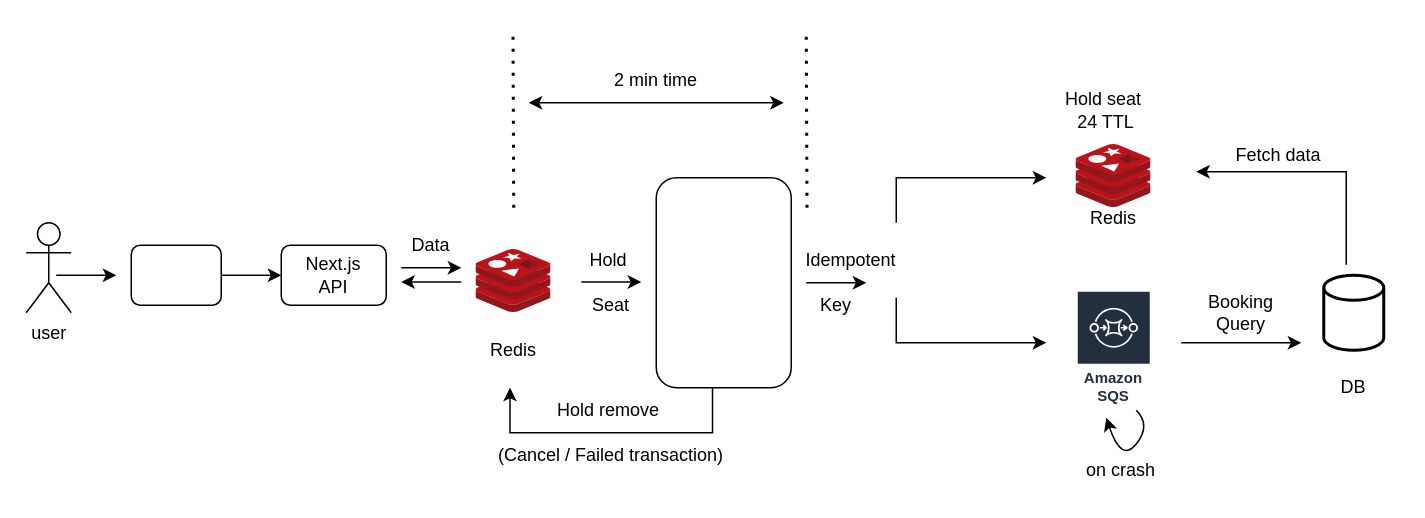
This 1425x518 diagram has some shape labels left out. Here are the shapes that lost their labels. From the top down, the centre of each, then its label:
(x=175, y=274): website
(x=723, y=282): Payment Window
